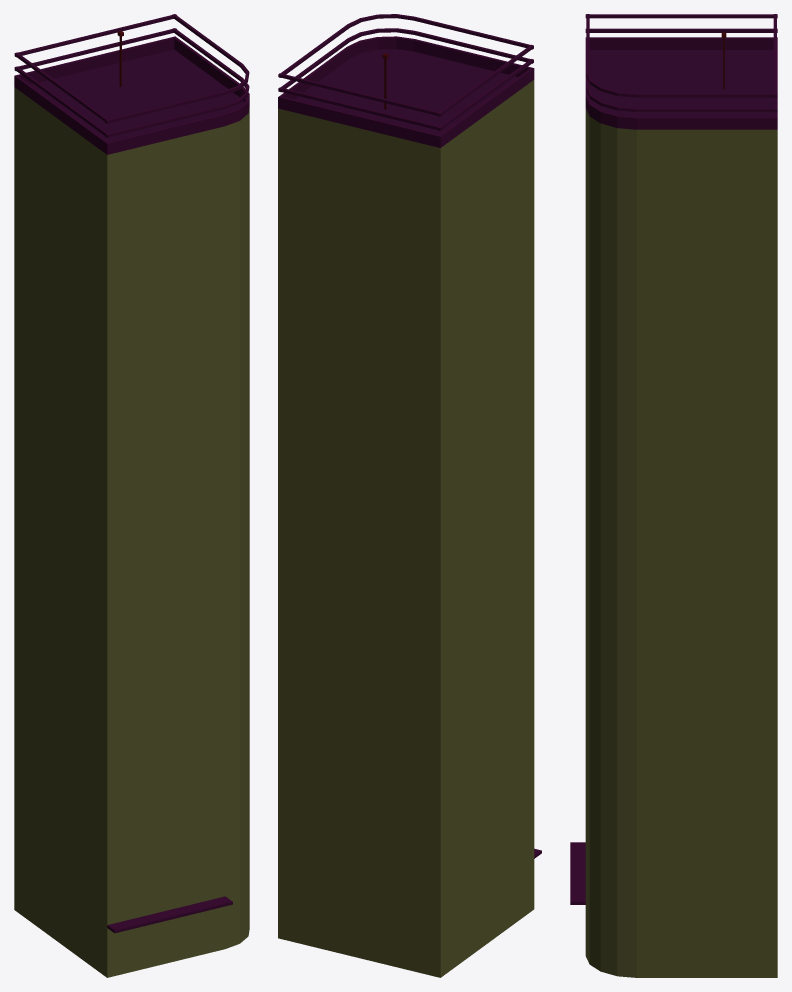
File: commercial_e.lod1.glb
The picture shows the model from 3 angles, left to right: view 1: azimuth 30°, elevation 25°; view 2: azimuth 150°, elevation 25°; view 3: azimuth 270°, elevation 25°; orthographic projection. The views are drawn at different scales.
Parts seen in each view (by area): view 1: commercial_e.lod1; view 2: commercial_e.lod1; view 3: commercial_e.lod1.
Boxes of the visible parts, bbox=[...] form: commercial_e.lod1: bbox=[14, 14, 249, 977]; commercial_e.lod1: bbox=[278, 14, 541, 977]; commercial_e.lod1: bbox=[570, 14, 777, 977].
Bounding box in the file's own units: 15 × 78.01 × 16.2.
